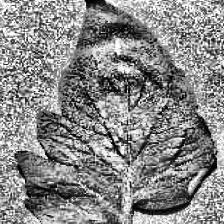spider mites: (17, 0, 217, 224)
